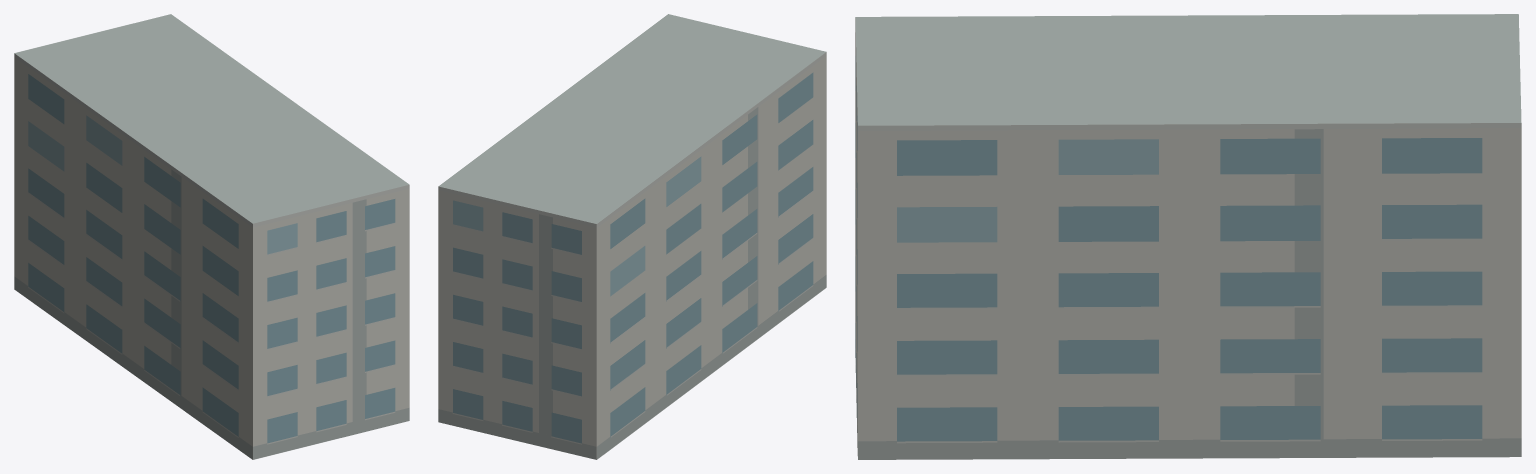
Rendered from residential-422cff97-c7f4-485c-b68b-7e78c9c15b70.glb.
The picture shows the model from 3 angles, left to right: view 1: azimuth 30°, elevation 25°; view 2: azimuth 150°, elevation 25°; view 3: azimuth 270°, elevation 25°; orthographic projection. The views are drawn at different scales.
Visible parts, largest first — view 1: residential-422cff97-c7f4-485c-b68b-7e78c9c15b70.tmp; view 2: residential-422cff97-c7f4-485c-b68b-7e78c9c15b70.tmp; view 3: residential-422cff97-c7f4-485c-b68b-7e78c9c15b70.tmp.
Boxes of the visible parts, bbox=[...] form: residential-422cff97-c7f4-485c-b68b-7e78c9c15b70.tmp: bbox=[14, 14, 409, 459]; residential-422cff97-c7f4-485c-b68b-7e78c9c15b70.tmp: bbox=[438, 14, 826, 459]; residential-422cff97-c7f4-485c-b68b-7e78c9c15b70.tmp: bbox=[855, 14, 1521, 459].
Size of the model in its own units: 10.95 by 15.25 by 27.56.
